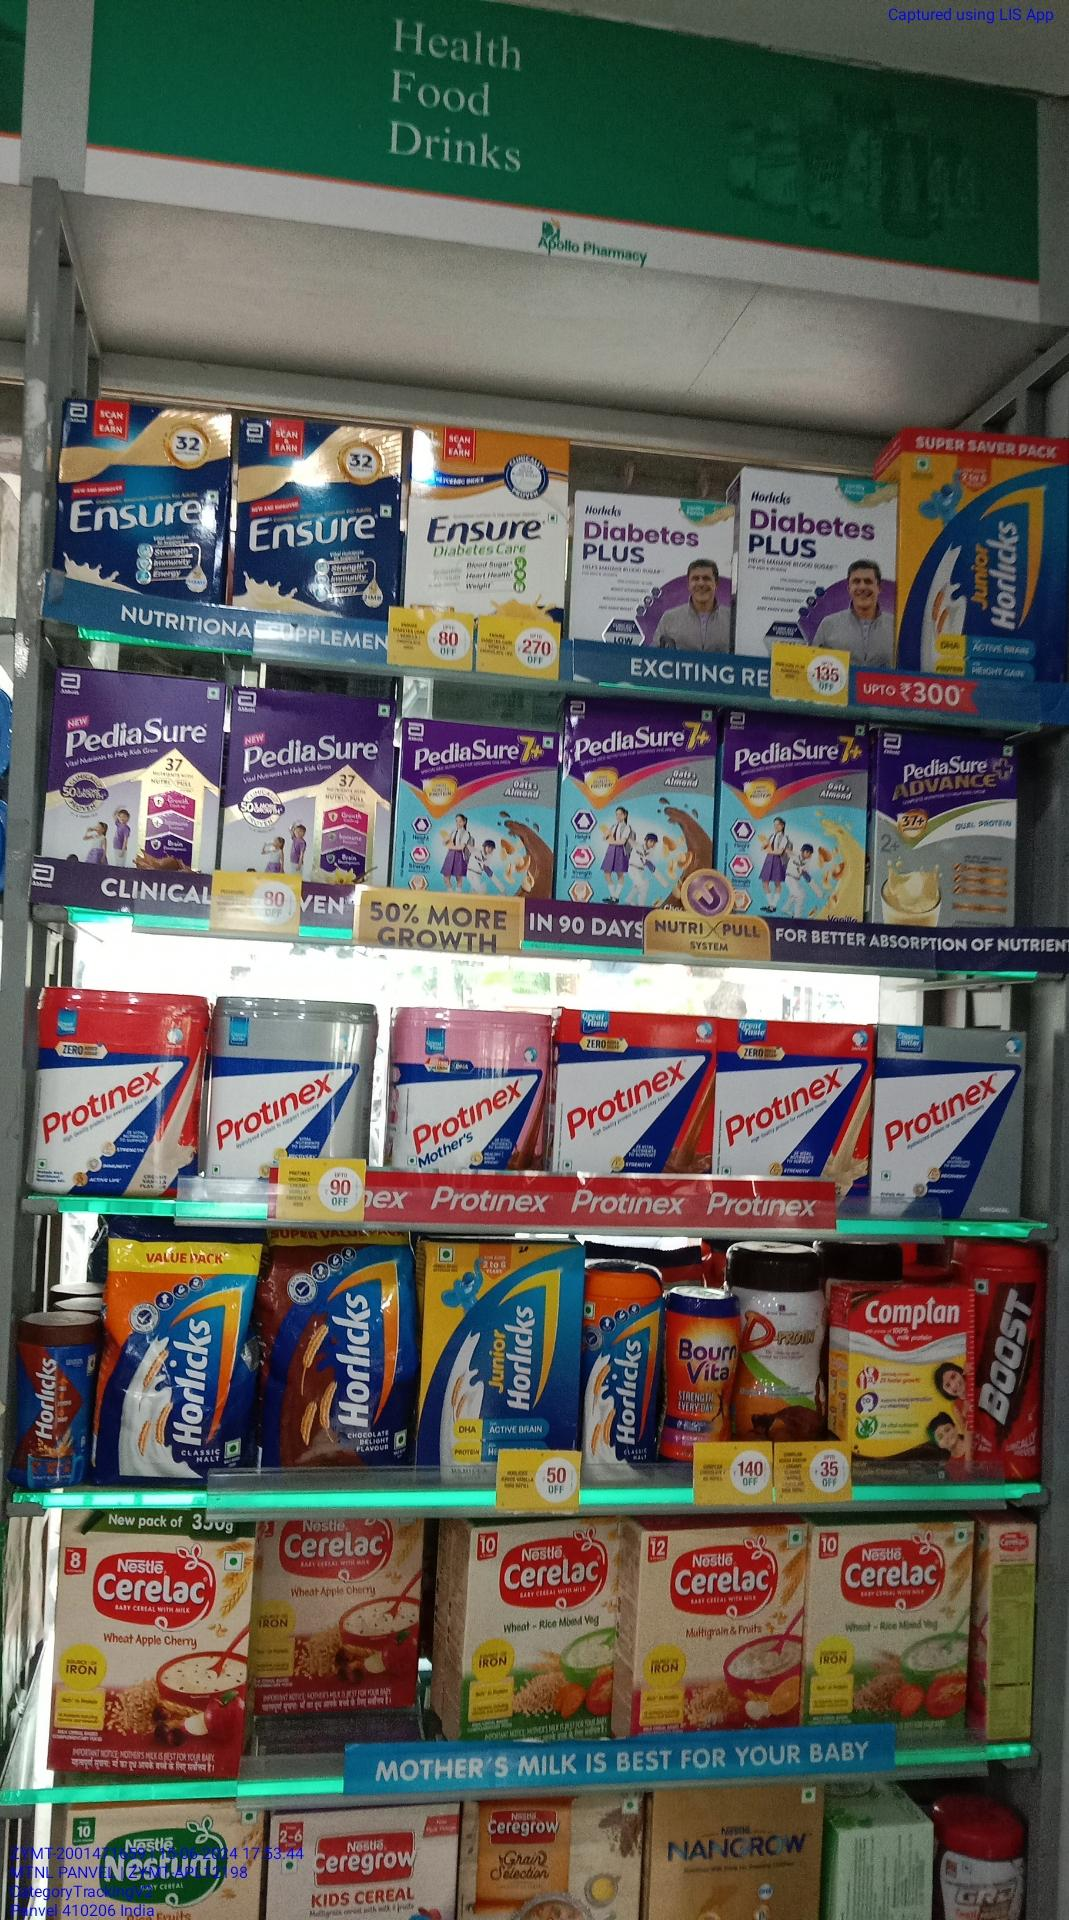BOURN_VITA_200_G_JAR: (674, 1292, 744, 1463)
ENSURE_VANILLA_400_G_PACK: (55, 400, 221, 600), (240, 418, 402, 621)
HORLICK_CHOCOLATE_200_G_JAR: (16, 1321, 90, 1488)
HORLICK_CLASSIC_MALT_750_G_POUCH: (101, 1233, 255, 1486)
PEDIASURE_7_PLUS_CHOCOLATE_400_G_PACK: (399, 716, 556, 897)
PEDIASURE_CHOCOLATE_500_G_PACK: (50, 669, 219, 876)
PROTINEX_ORIGINAL_400_G_JAR: (205, 988, 367, 1174)
PROTINEX_VANILLA_400_G_JAR: (36, 990, 200, 1196)
